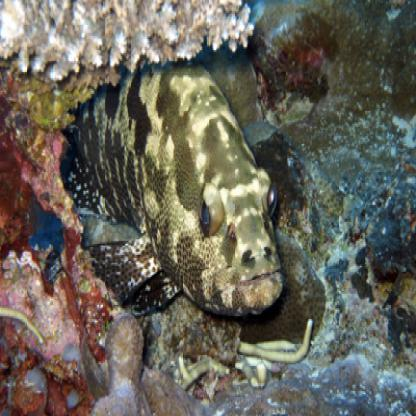Bio: (56, 58, 283, 316)
